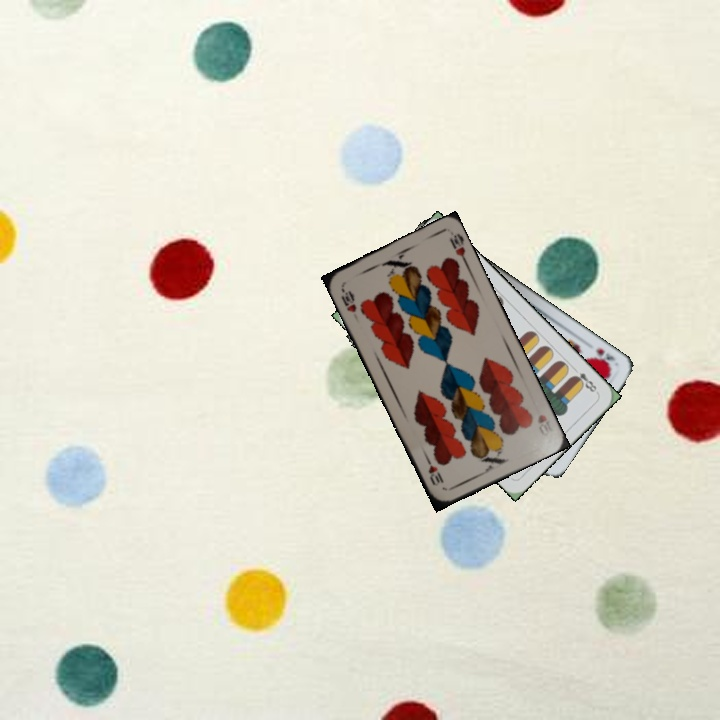E8: (568, 363, 601, 396)
H10: (337, 284, 359, 315), (533, 410, 553, 439)
HK: (590, 344, 618, 372)
